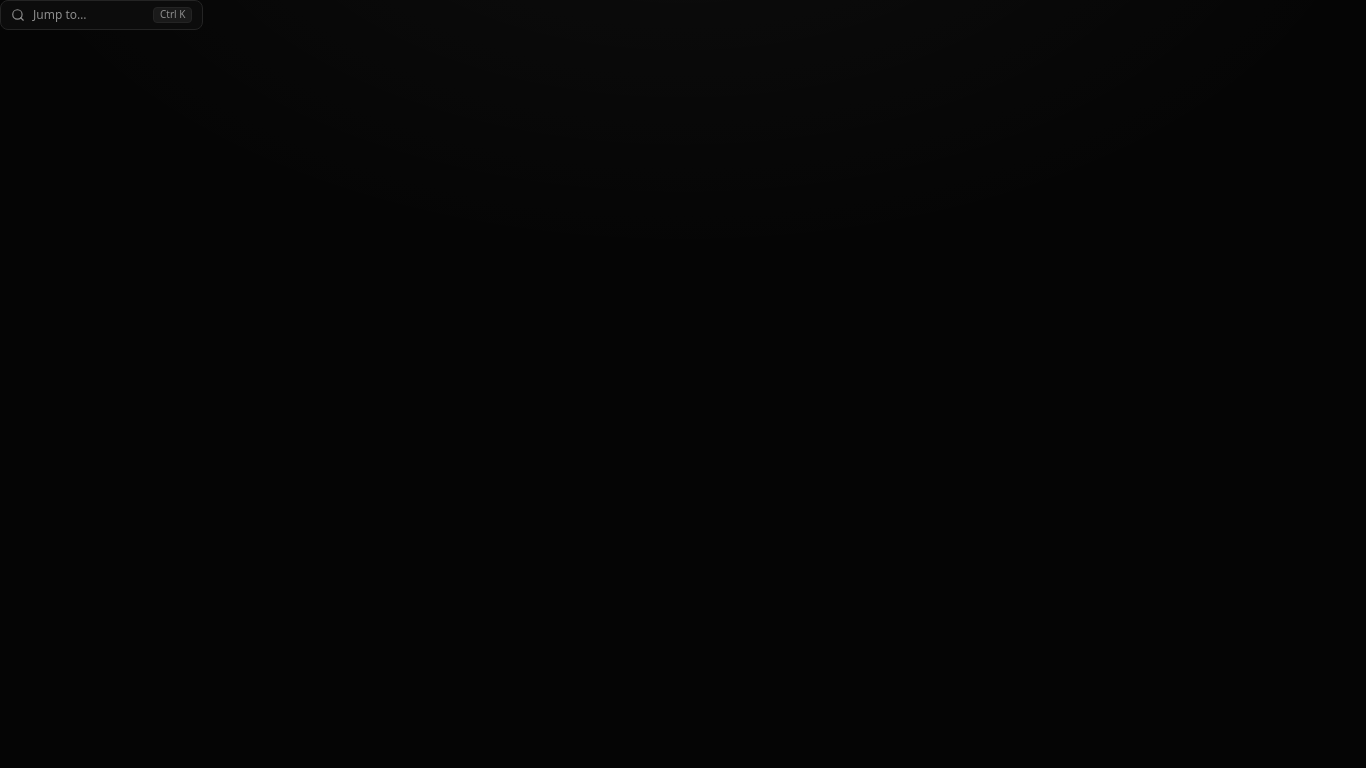
Scenario: CommandPalette › offers a job search for any text
This screenshot has width=1366, height=768.
Click the button with aria-label "Open command palette": (102, 15) x1=0 y1=0 x2=203 y2=30
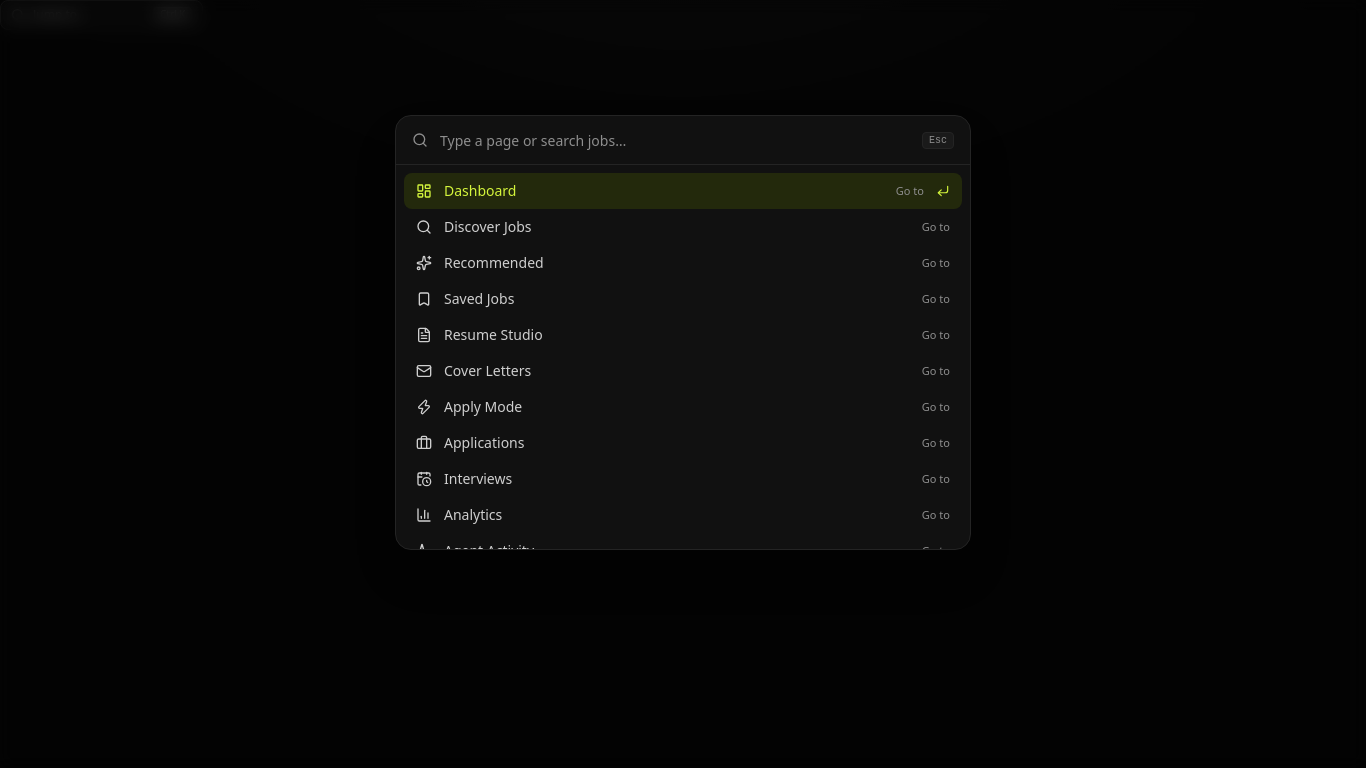
In the dropdown named "Command": (675, 140) x1=440 y1=116 x2=910 y2=164, type "react"
Then press Enter
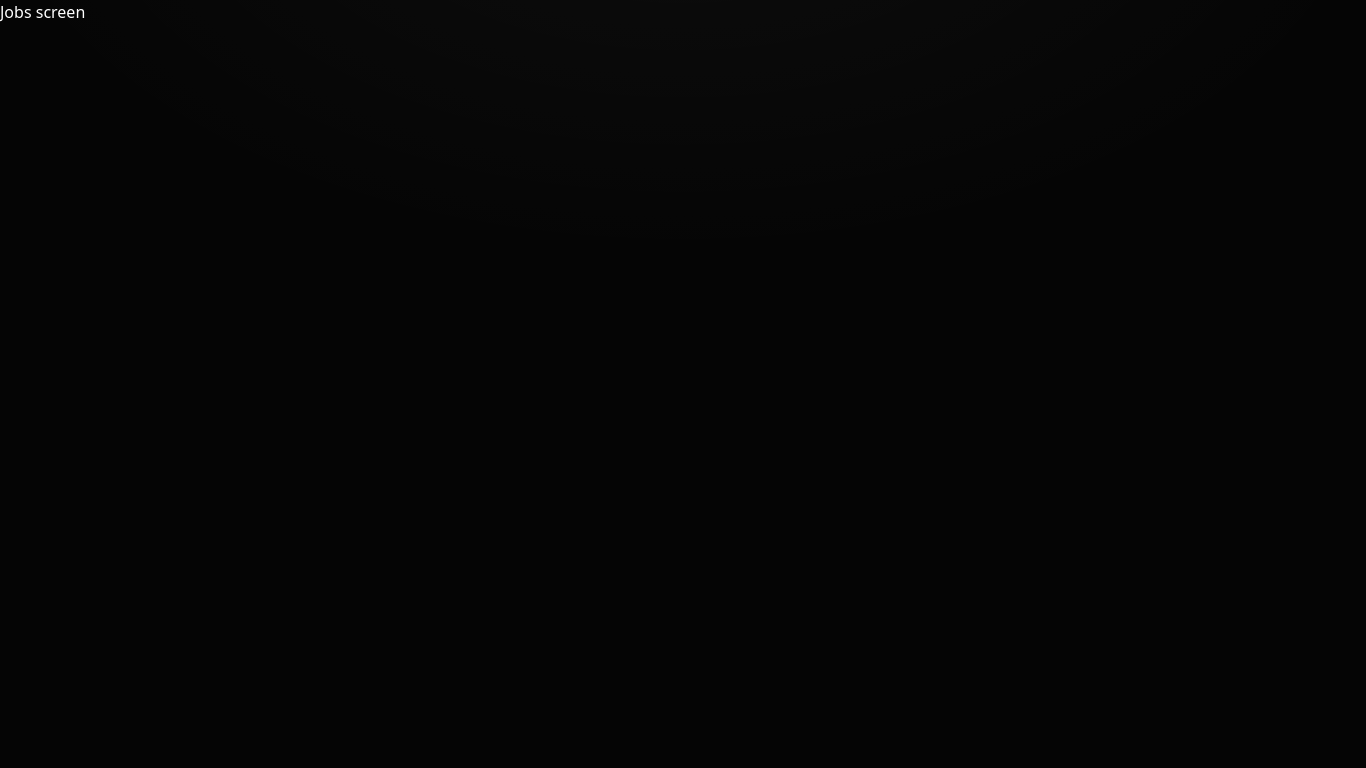
Now the text "Jobs screen" is shown, box x1=0 y1=1 x2=85 y2=23
